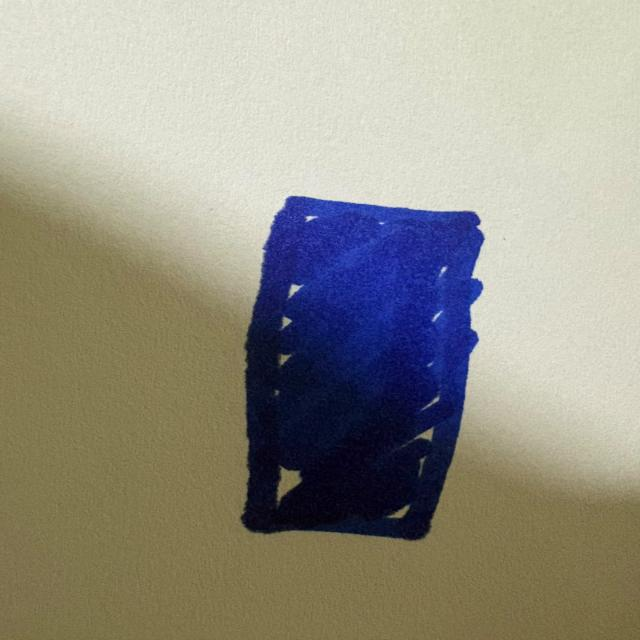Rectangle: (241, 197, 483, 542)
